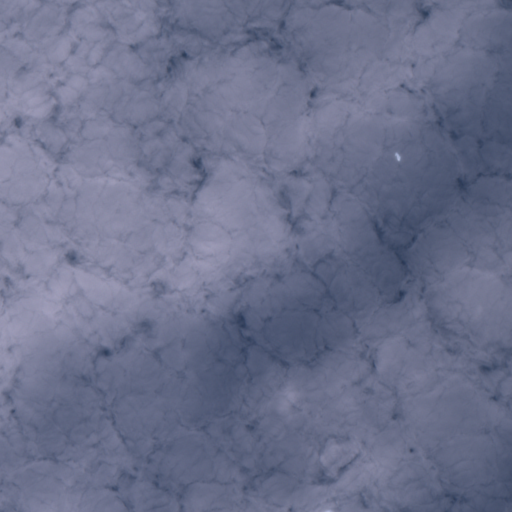Iceberg: (395, 152, 400, 160)
